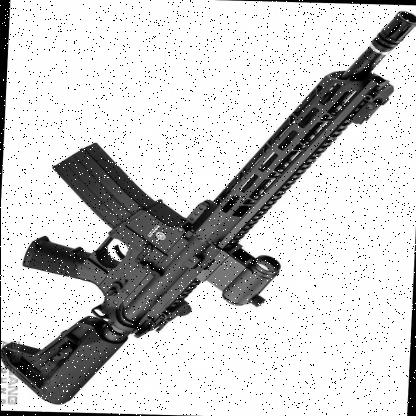rifle: (0, 0, 416, 414)
